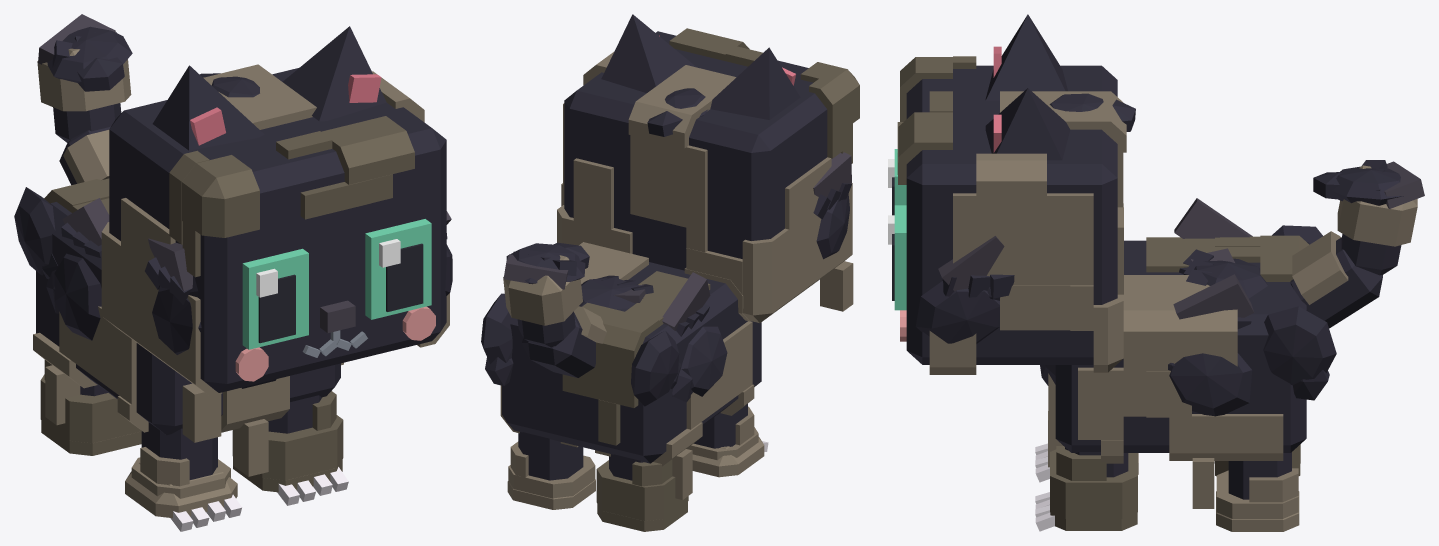
Rendered from CleanACat_Cat_Inky_Dirty.fbx.
3 renders of one model, left to right at view 1: azimuth 30°, elevation 25°; view 2: azimuth 150°, elevation 25°; view 3: azimuth 270°, elevation 25°, orthographic. The views are drawn at different scales.
Parts seen in each view (by area): view 1: CleanACat_Cat_Inky_Dirty_Head, CleanACat_Cat_Inky_Dirty_Mud01, CleanACat_Cat_Inky_Dirty_Mud03, CleanACat_Cat_Inky_Dirty_Mud06, CleanACat_Cat_Inky_Dirty_Body, CleanACat_Cat_Inky_Dirty_Eye1, CleanACat_Cat_Inky_Dirty_Eye2, CleanACat_Cat_Inky_Dirty_EarL, CleanACat_Cat_Inky_Dirty_Mud15, CleanACat_Cat_Inky_Dirty_EarR, CleanACat_Cat_Inky_Dirty_Mud16, CleanACat_Cat_Inky_Dirty_Mud18 (+19 smaller); view 2: CleanACat_Cat_Inky_Dirty_Head, CleanACat_Cat_Inky_Dirty_Body, CleanACat_Cat_Inky_Dirty_Mud01, CleanACat_Cat_Inky_Dirty_Mud04, CleanACat_Cat_Inky_Dirty_Mud09, CleanACat_Cat_Inky_Dirty_Mud18, CleanACat_Cat_Inky_Dirty_Mud05, CleanACat_Cat_Inky_Dirty_Mud10, CleanACat_Cat_Inky_Dirty_EarL, CleanACat_Cat_Inky_Dirty_EarR, CleanACat_Cat_Inky_Dirty_Tail, CleanACat_Cat_Inky_Dirty_Mud06 (+23 smaller); view 3: CleanACat_Cat_Inky_Dirty_Head, CleanACat_Cat_Inky_Dirty_Mud02, CleanACat_Cat_Inky_Dirty_Mud08, CleanACat_Cat_Inky_Dirty_Body, CleanACat_Cat_Inky_Dirty_Mud11, CleanACat_Cat_Inky_Dirty_Mud15, CleanACat_Cat_Inky_Dirty_Fluff09, CleanACat_Cat_Inky_Dirty_Mud17, CleanACat_Cat_Inky_Dirty_Tail, CleanACat_Cat_Inky_Dirty_Fluff05, CleanACat_Cat_Inky_Dirty_EarL, CleanACat_Cat_Inky_Dirty_EarR (+22 smaller).
Boxes of the visible parts, left/top/right/bottom form: CleanACat_Cat_Inky_Dirty_Head: left=109, top=68, right=446, bottom=392; CleanACat_Cat_Inky_Dirty_Mud01: left=101, top=198, right=222, bottom=442; CleanACat_Cat_Inky_Dirty_Mud03: left=276, top=116, right=414, bottom=219; CleanACat_Cat_Inky_Dirty_Mud06: left=169, top=150, right=259, bottom=277; CleanACat_Cat_Inky_Dirty_Body: left=36, top=202, right=340, bottom=435; CleanACat_Cat_Inky_Dirty_Eye1: left=365, top=219, right=431, bottom=319; CleanACat_Cat_Inky_Dirty_Eye2: left=242, top=248, right=308, bottom=349; CleanACat_Cat_Inky_Dirty_EarL: left=283, top=26, right=386, bottom=121; CleanACat_Cat_Inky_Dirty_Mud15: left=232, top=391, right=343, bottom=492; CleanACat_Cat_Inky_Dirty_EarR: left=152, top=65, right=264, bottom=150; CleanACat_Cat_Inky_Dirty_Mud16: left=125, top=447, right=237, bottom=518; CleanACat_Cat_Inky_Dirty_Mud18: left=40, top=360, right=141, bottom=455; CleanACat_Cat_Inky_Dirty_Head: left=564, top=31, right=831, bottom=270; CleanACat_Cat_Inky_Dirty_Body: left=502, top=262, right=761, bottom=463; CleanACat_Cat_Inky_Dirty_Mud01: left=686, top=157, right=853, bottom=322; CleanACat_Cat_Inky_Dirty_Mud04: left=628, top=65, right=736, bottom=252; CleanACat_Cat_Inky_Dirty_Mud09: left=562, top=298, right=660, bottom=445; CleanACat_Cat_Inky_Dirty_Mud18: left=596, top=459, right=688, bottom=531; CleanACat_Cat_Inky_Dirty_Mud05: left=557, top=158, right=632, bottom=253; CleanACat_Cat_Inky_Dirty_Mud10: left=684, top=268, right=754, bottom=429; CleanACat_Cat_Inky_Dirty_EarL: left=601, top=14, right=696, bottom=93; CleanACat_Cat_Inky_Dirty_EarR: left=710, top=47, right=800, bottom=119; CleanACat_Cat_Inky_Dirty_Tail: left=517, top=311, right=595, bottom=377; CleanACat_Cat_Inky_Dirty_Mud06: left=800, top=62, right=859, bottom=163; CleanACat_Cat_Inky_Dirty_Head: left=900, top=65, right=1117, bottom=364; CleanACat_Cat_Inky_Dirty_Mud02: left=929, top=153, right=1093, bottom=374; CleanACat_Cat_Inky_Dirty_Mud08: left=1123, top=275, right=1237, bottom=417; CleanACat_Cat_Inky_Dirty_Body: left=1055, top=240, right=1306, bottom=452; CleanACat_Cat_Inky_Dirty_Mud11: left=1169, top=414, right=1283, bottom=508; CleanACat_Cat_Inky_Dirty_Mud15: left=1050, top=446, right=1137, bottom=530; CleanACat_Cat_Inky_Dirty_Fluff09: left=1263, top=306, right=1336, bottom=400; CleanACat_Cat_Inky_Dirty_Mud17: left=1216, top=468, right=1299, bottom=531; CleanACat_Cat_Inky_Dirty_Tail: left=1290, top=234, right=1401, bottom=328; CleanACat_Cat_Inky_Dirty_Fluff05: left=1168, top=353, right=1252, bottom=416; CleanACat_Cat_Inky_Dirty_EarL: left=985, top=88, right=1070, bottom=160; CleanACat_Cat_Inky_Dirty_EarR: left=985, top=14, right=1067, bottom=100.
Bounding box in the file's own units: 1.13 × 1.86 × 2.03.
Materials: 1 (1 with a texture image).
